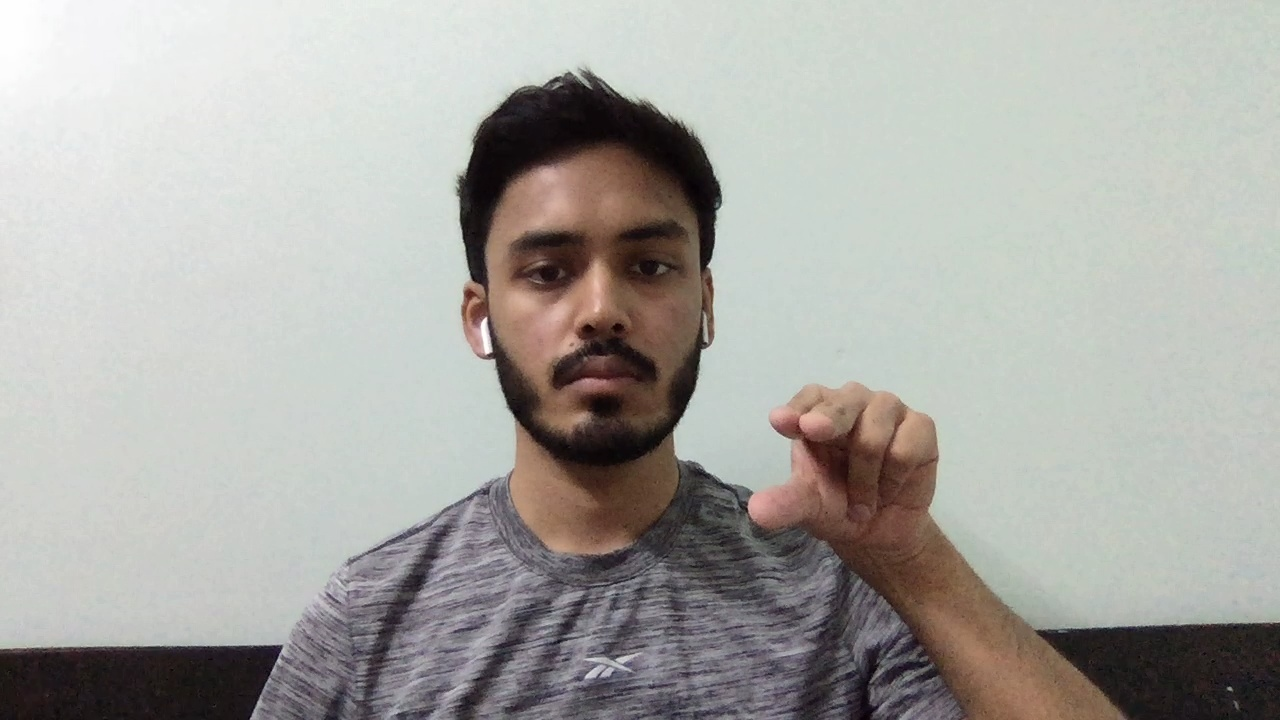No: (734, 370, 952, 535)
